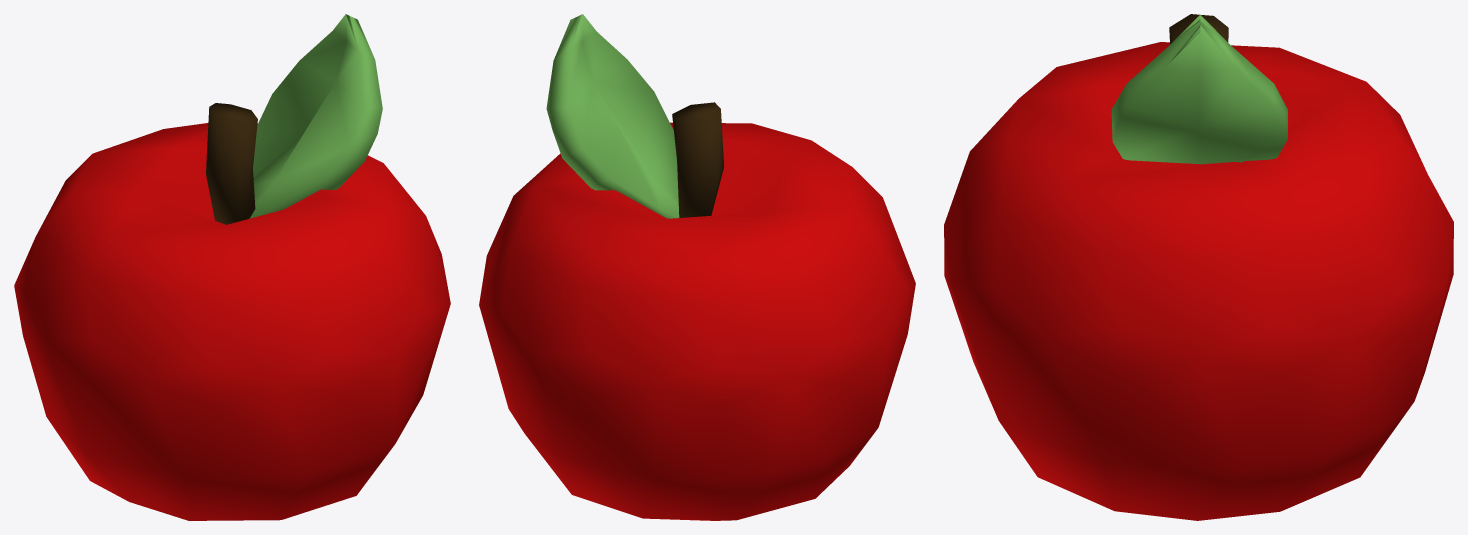
File: 8e6f1466-97dc-4d73-a66b-4ebe31a9720b.glb
The picture shows the model from 3 angles, left to right: view 1: azimuth 30°, elevation 25°; view 2: azimuth 150°, elevation 25°; view 3: azimuth 270°, elevation 25°; orthographic projection. The views are drawn at different scales.
Visible parts, largest first — view 1: AppleRed1; view 2: AppleRed1; view 3: AppleRed1.
Part boxes in pixels (left/top/right/bottom): AppleRed1: left=14, top=14, right=450, bottom=520; AppleRed1: left=479, top=14, right=915, bottom=520; AppleRed1: left=944, top=14, right=1453, bottom=520.
Bounding box in the file's own units: 0.1619 × 0.1757 × 0.1583.
1 material, 1 textured.
